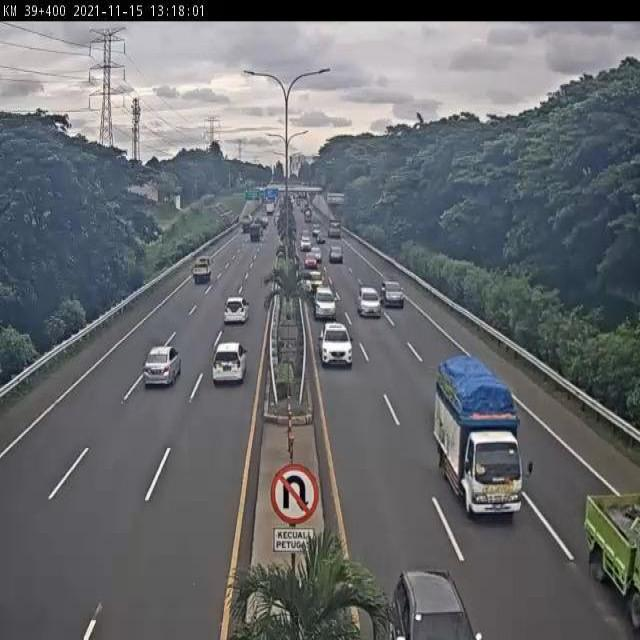car: (318, 320, 355, 372), (211, 337, 248, 388), (144, 345, 183, 388), (222, 294, 249, 330), (357, 284, 382, 319), (313, 284, 336, 321), (382, 279, 406, 308)
truck-m-: (435, 356, 527, 517)
truck-s-: (192, 257, 212, 284)
